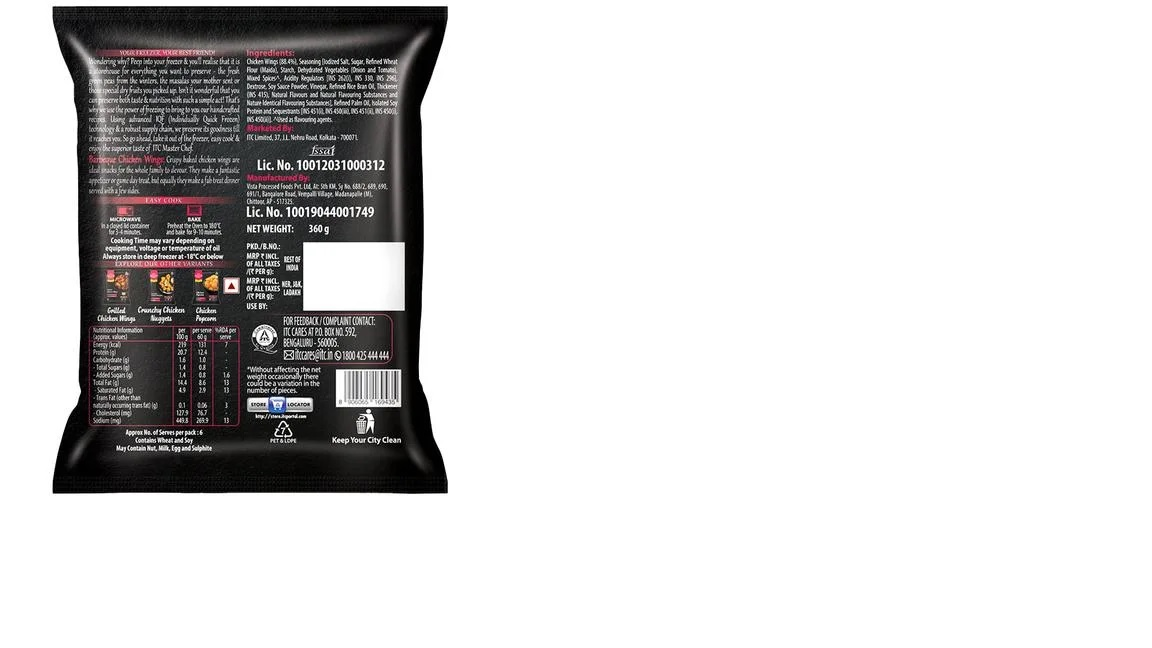non_veg: (223, 275, 242, 304)
